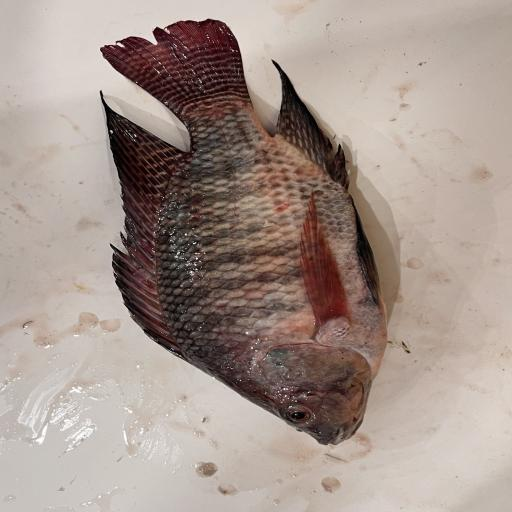Tilapia: (99, 19, 387, 445)
